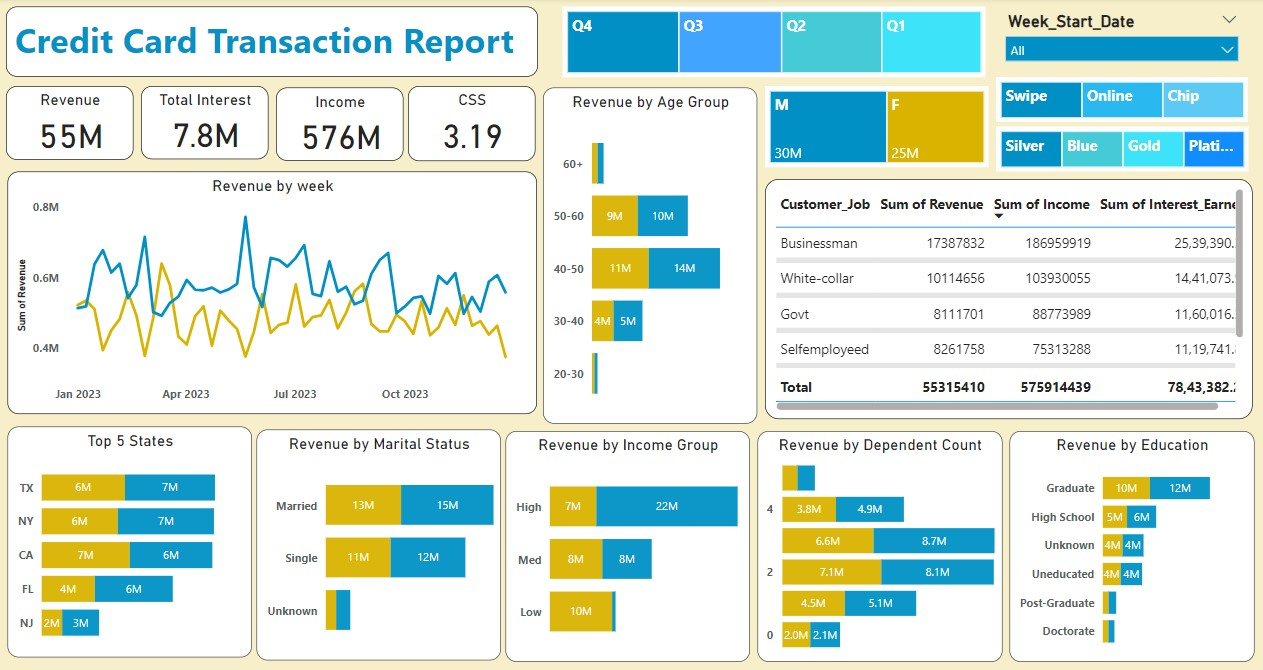

This screenshot's page, from the dashboard's own definition file:
{"tool":"powerbi","page":{"name":"Page 3","canvas":[1373,730],"ordinal":2},"visuals":[{"type":"textbox","box":[10,8.3,575.7,76.3],"z":0},{"type":"barChart","title":"Revenue by Income Group","fields":{"Y":["Sum(credit_card.Revenue)"],"Category":["customer.IncomeGroup"],"Series":["customer.Gender"]},"box":[551.2,467.2,264.7,250.1],"z":1000},{"type":"slicer","fields":{"Values":["credit_card.Week_Start_Date"]},"box":[1081.7,8.1,272.9,76.3],"z":2000},{"type":"treemap","fields":{"Group":["credit_card.Qtr"],"Values":["Avg(credit_card.Client_Num)"]},"box":[612.3,8.1,458,76.3],"z":3000},{"type":"treemap","fields":{"Values":["Avg(credit_card.Client_Num)"],"Group":["credit_card.Card_Category"]},"box":[1081.7,138.1,273.4,48.7],"z":4000},{"type":"tableEx","fields":{"Values":["customer.Customer_Job","Sum(credit_card.Revenue)","Sum(customer.Income)","Sum(credit_card.Interest_Earned)"]},"box":[831.6,194.9,527.9,259.9],"z":5000},{"type":"card","title":"Revenue","fields":{"Values":["Sum(credit_card.Revenue)"]},"box":[9.7,93.4,138,80],"z":6000},{"type":"card","title":"Income","fields":{"Values":["Sum(customer.Income)"]},"box":[302.1,95.3,138.1,79.6],"z":7000},{"type":"card","title":"Total Interest","fields":{"Values":["Sum(credit_card.Interest_Earned)"]},"box":[156.5,94.2,138.1,79.6],"z":8000},{"type":"card","title":"CSS","fields":{"Values":["Avg(customer.Cust_Satisfaction_Score)"]},"box":[445.6,94.7,138,81.2],"z":9000},{"type":"lineChart","title":"Revenue by week","fields":{"Y":["Sum(credit_card.Revenue)"],"Series":["customer.Gender"],"Category":["credit_card.Week_Start_Date.Variation.Date Hierarchy.Year","credit_card.Week_Start_Date.Variation.Date Hierarchy.Month","credit_card.Week_Start_Date.Variation.Date Hierarchy.Day"]},"box":[11.4,187.3,573.4,262.6],"z":10000},{"type":"treemap","fields":{"Group":["customer.Gender"],"Values":["Sum(credit_card.Revenue)"]},"box":[831.6,94.2,242,87.7],"z":11000},{"type":"barChart","title":"Top 5 States","fields":{"Y":["Sum(credit_card.Revenue)"],"Category":["customer.state_cd"],"Series":["customer.Gender"]},"box":[11.9,463.4,264.7,250.1],"z":12000},{"type":"barChart","title":"Revenue by Dependent Count","fields":{"Y":["Sum(credit_card.Revenue)"],"Category":["customer.Dependent_Count"],"Series":["customer.Gender"]},"box":[824,467.8,265,250.1],"z":13000},{"type":"barChart","title":"Revenue by Education","fields":{"Y":["Sum(credit_card.Revenue)"],"Category":["customer.Education_Level"],"Series":["customer.Gender"]},"box":[1096.3,468.3,265,250.1],"z":14000},{"type":"barChart","title":"Revenue by Age Group","fields":{"Y":["Sum(credit_card.Revenue)"],"Category":["customer.AgeGroup"],"Series":["customer.Gender"]},"box":[591.2,95.8,232.3,363.8],"z":15000},{"type":"barChart","title":"Revenue by Marital Status","fields":{"Y":["Sum(credit_card.Revenue)"],"Category":["customer.Marital_Status"],"Series":["customer.Gender"]},"box":[280.4,465.6,264.7,250.1],"z":16000},{"type":"treemap","fields":{"Values":["Avg(credit_card.Client_Num)"],"Group":["credit_card.Use_Chip"]},"box":[1081.7,84.5,272.9,48.7],"z":17000}]}

Visuals, with their boxes in screenshot pixels (x1, y1, x2, y2), scaled from the page's 1373x730 canvas onto the 1263x670 screenshot:
textbox: {"left": 9, "top": 8, "right": 539, "bottom": 78}
"Revenue by Income Group" barChart: {"left": 507, "top": 429, "right": 751, "bottom": 658}
slicer - credit_card.Week_Start_Date: {"left": 995, "top": 7, "right": 1246, "bottom": 77}
treemap - credit_card.Qtr x Avg(credit_card.Client_Num): {"left": 563, "top": 7, "right": 985, "bottom": 77}
treemap - Avg(credit_card.Client_Num) x credit_card.Card_Category: {"left": 995, "top": 127, "right": 1247, "bottom": 171}
tableEx - customer.Customer_Job x Sum(credit_card.Revenue): {"left": 765, "top": 179, "right": 1251, "bottom": 417}
"Revenue" card: {"left": 9, "top": 86, "right": 136, "bottom": 159}
"Income" card: {"left": 278, "top": 87, "right": 405, "bottom": 161}
"Total Interest" card: {"left": 144, "top": 86, "right": 271, "bottom": 160}
"CSS" card: {"left": 410, "top": 87, "right": 537, "bottom": 161}
"Revenue by week" lineChart: {"left": 10, "top": 172, "right": 538, "bottom": 413}
treemap - customer.Gender x Sum(credit_card.Revenue): {"left": 765, "top": 86, "right": 988, "bottom": 167}
"Top 5 States" barChart: {"left": 11, "top": 425, "right": 254, "bottom": 655}
"Revenue by Dependent Count" barChart: {"left": 758, "top": 429, "right": 1002, "bottom": 659}
"Revenue by Education" barChart: {"left": 1008, "top": 430, "right": 1252, "bottom": 659}
"Revenue by Age Group" barChart: {"left": 544, "top": 88, "right": 758, "bottom": 422}
"Revenue by Marital Status" barChart: {"left": 258, "top": 427, "right": 501, "bottom": 657}
treemap - Avg(credit_card.Client_Num) x credit_card.Use_Chip: {"left": 995, "top": 78, "right": 1246, "bottom": 122}
